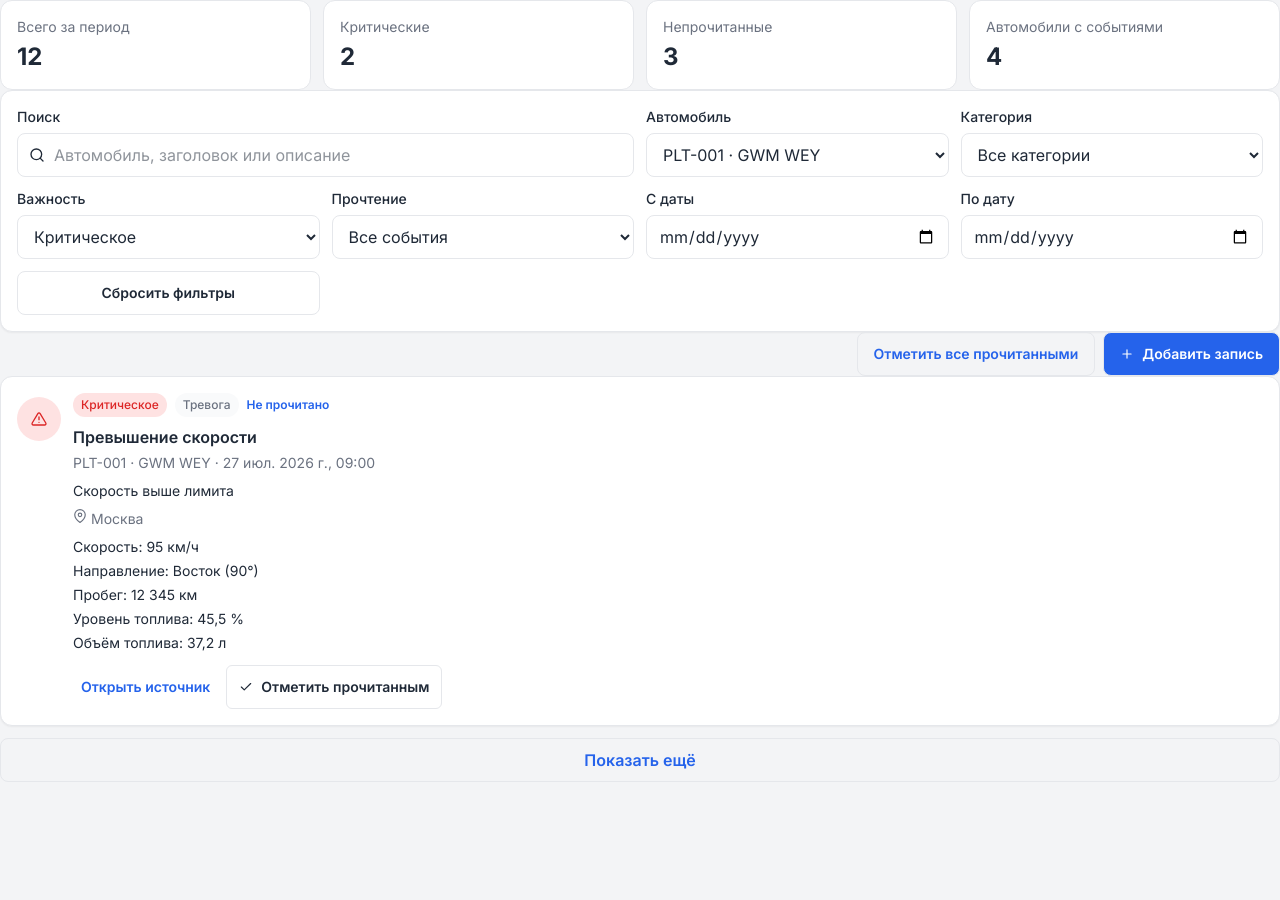
Scenario: workspace истории событий › закрывает ручную форму только после успеха и сохраняет значения при ошибке
The width and height of the screenshot is (1280, 900).
Click the button "Добавить запись" at (1192, 354), box [1103,332,1279,376]
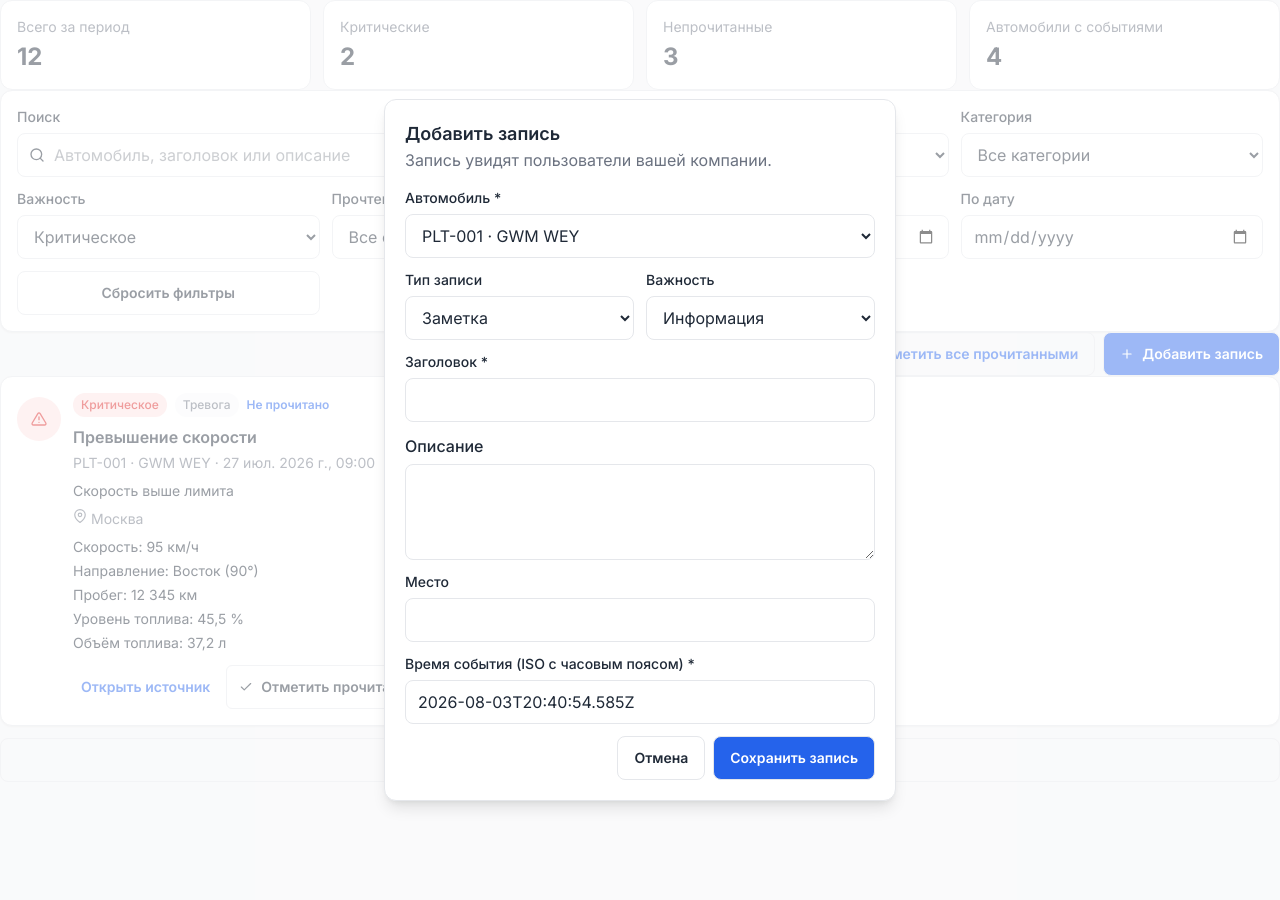
Type "Проверка формы" into the field named "title" at (640, 400), box [405,378,875,422]
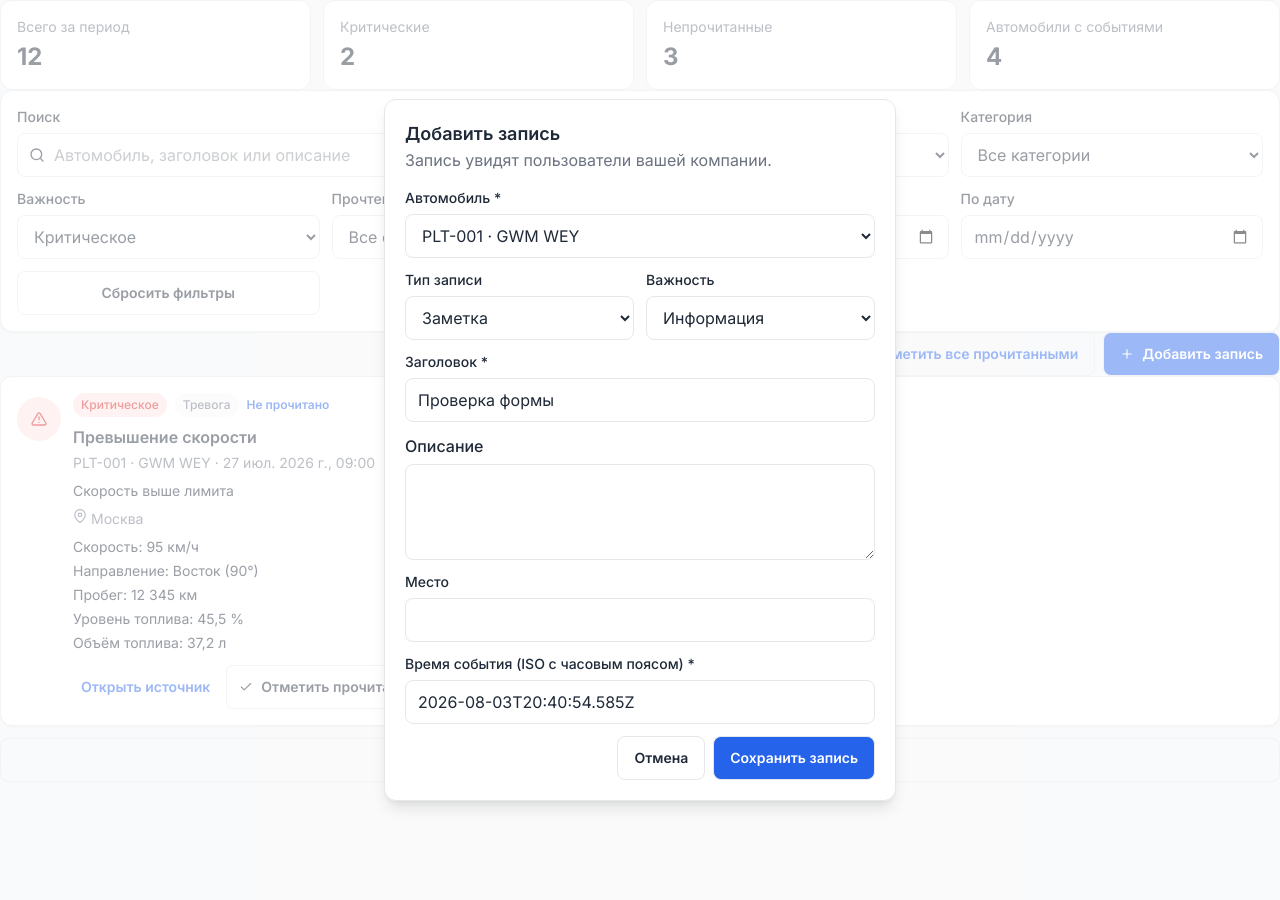
Click the button "Сохранить запись" at (794, 758), box [713,736,875,780]
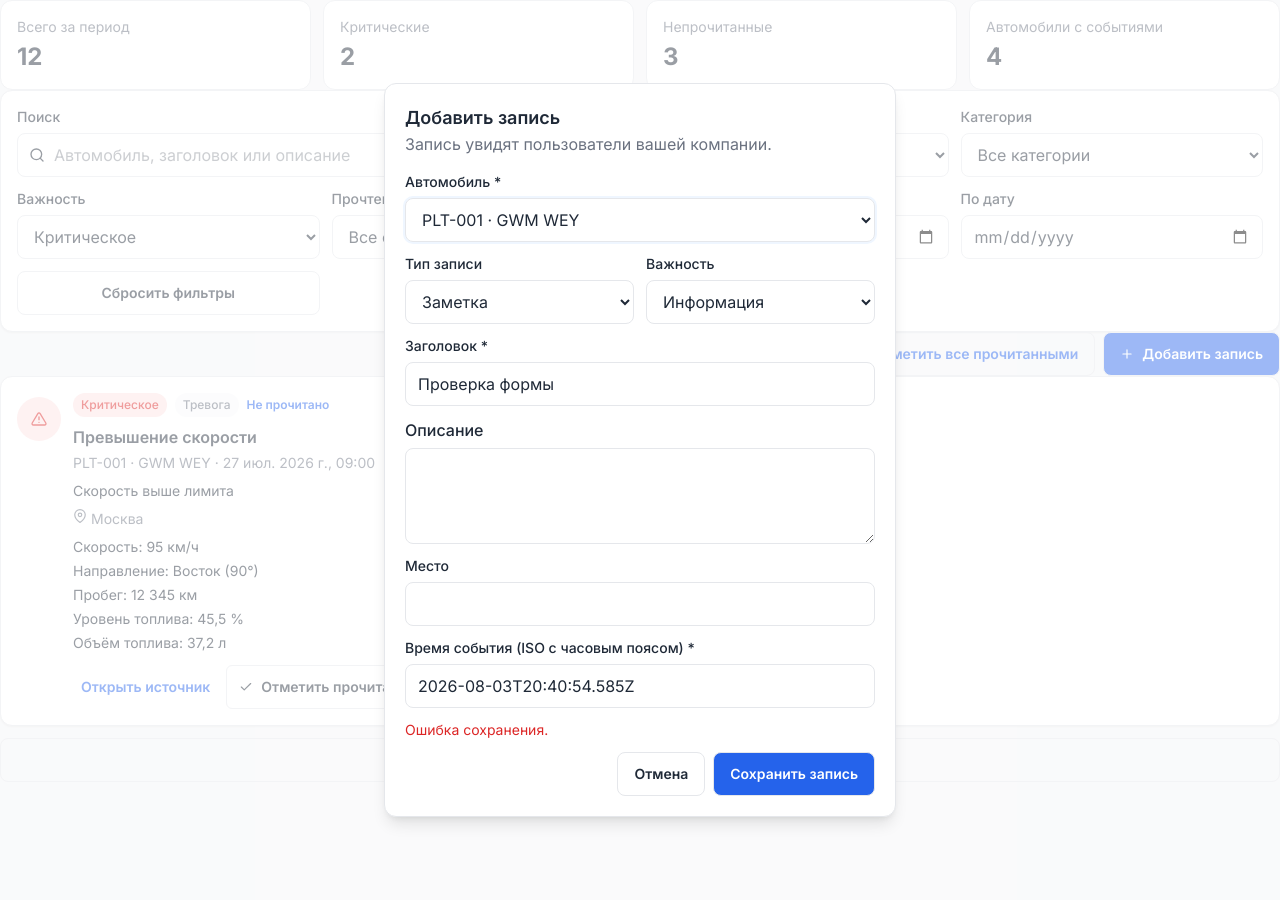
Now the dialog is shown, box [384,83,896,817]
Click the button "Сохранить запись" at (794, 774), box [713,752,875,796]
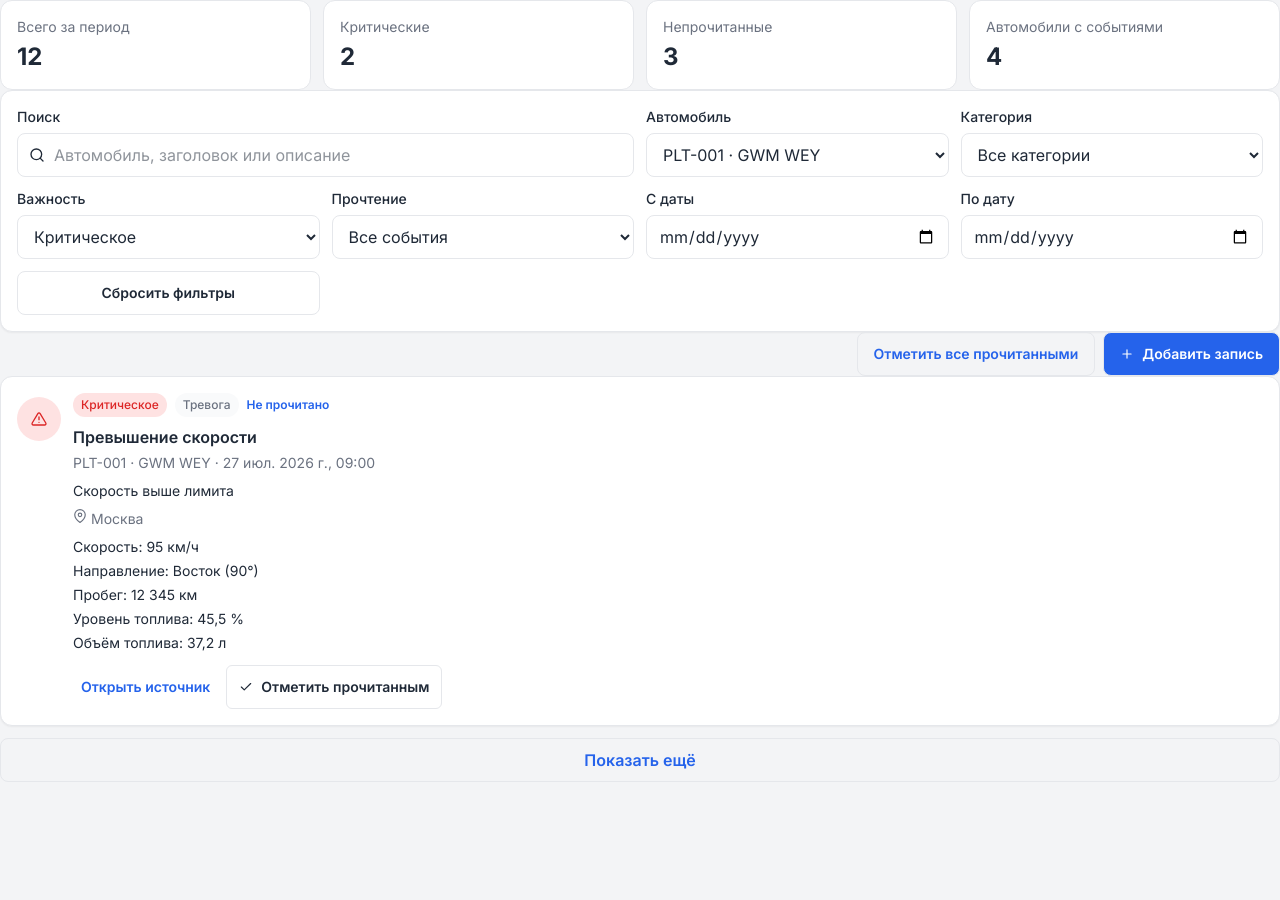
Now the dialog is gone
